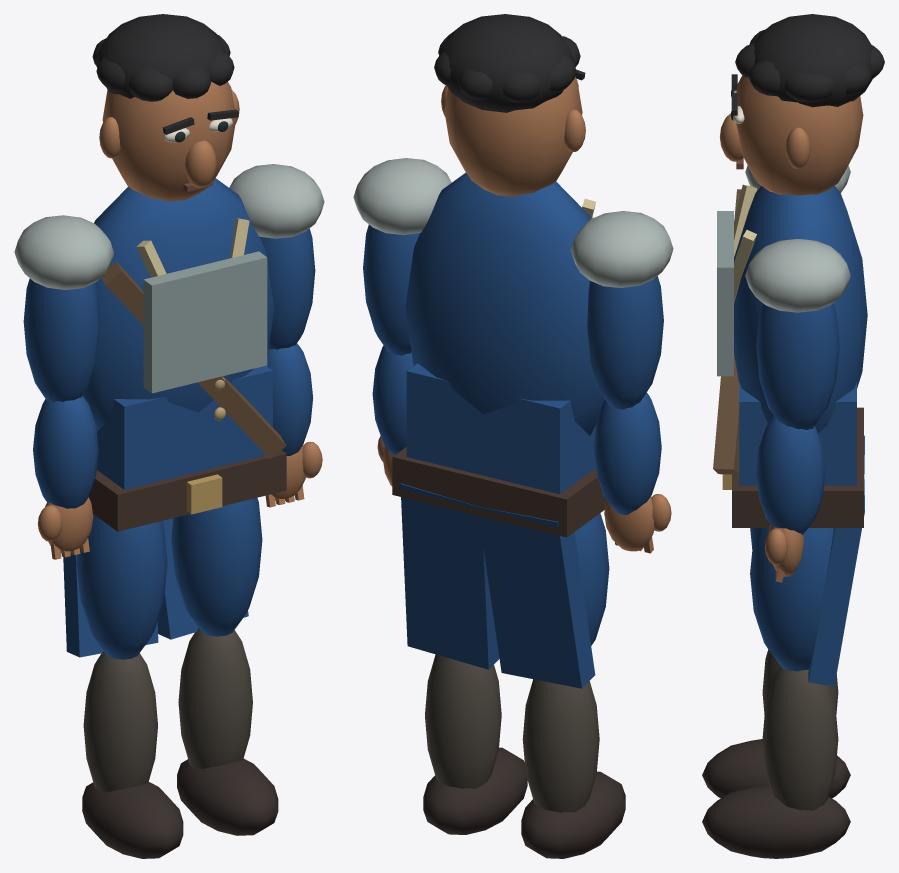
Rendered from windrunner.glb.
The picture shows the model from 3 angles, left to right: view 1: azimuth 30°, elevation 25°; view 2: azimuth 150°, elevation 25°; view 3: azimuth 270°, elevation 25°; orthographic projection. The views are drawn at different scales.
Visible parts, largest first — view 1: radiant_0_stone, shin_and_foot_stone (×2), order_equipment_metal, face_and_hair_stone, thigh_stone (×2), forearm_and_fingers_stone (×2), upper_arm_stone (×2), split_cloth_stone, radiant_0_metal; view 2: radiant_0_stone, split_cloth_stone, shin_and_foot_stone (×2), face_and_hair_stone, upper_arm_stone (×2), forearm_and_fingers_stone (×2), order_equipment_metal, thigh_stone; view 3: radiant_0_stone, face_and_hair_stone, shin_and_foot_stone (×2), order_equipment_metal, upper_arm_stone, forearm_and_fingers_stone, thigh_stone, split_cloth_stone.
Part boxes in pixels (x1,y1,x2,y2): radiant_0_stone: (82,178,286,531); shin_and_foot_stone (×2): (82,628,278,858); order_equipment_metal: (14,164,324,393); face_and_hair_stone: (92,14,239,201); thigh_stone (×2): (76,498,262,659); forearm_and_fingers_stone (×2): (33,343,322,559); upper_arm_stone (×2): (23,228,315,401); split_cloth_stone: (63,518,248,657); radiant_0_metal: (186,377,225,514); radiant_0_stone: (392,172,606,537); split_cloth_stone: (400,483,595,688); shin_and_foot_stone (×2): (423,654,625,858); face_and_hair_stone: (434,14,585,196); upper_arm_stone (×2): (363,224,663,409); forearm_and_fingers_stone (×2): (372,345,671,553); order_equipment_metal: (353,158,673,287); thigh_stone: (574,513,609,645); radiant_0_stone: (713,184,867,527); face_and_hair_stone: (720,14,884,195); shin_and_foot_stone (×2): (702,649,850,858); order_equipment_metal: (717,165,850,376); upper_arm_stone: (756,303,839,429); forearm_and_fingers_stone: (756,416,825,582); thigh_stone: (750,528,833,671); split_cloth_stone: (808,435,864,686).
Size of the model in its own units: 0.716 by 1.86 by 0.381.
